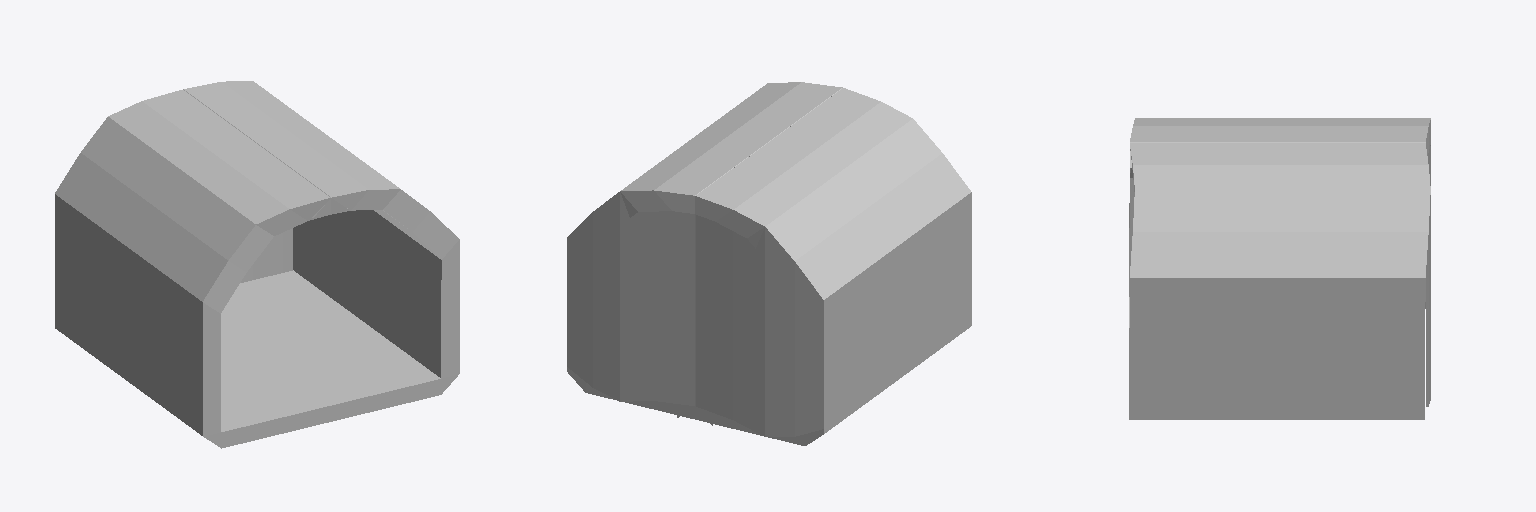
The model's file is sc1_doghouse.obj.
3 views of the same model, side by side, from view 1: azimuth 30°, elevation 25°; view 2: azimuth 150°, elevation 25°; view 3: azimuth 270°, elevation 25° (orthographic).
Visible parts, largest first — view 1: doghouse; view 2: doghouse; view 3: doghouse.
Part boxes in pixels (x1,y1,x2,y2): doghouse: (55, 81, 459, 448); doghouse: (567, 82, 971, 445); doghouse: (1129, 118, 1430, 419).
Bounding box in the file's own units: 2.99 × 2.52 × 3.03.